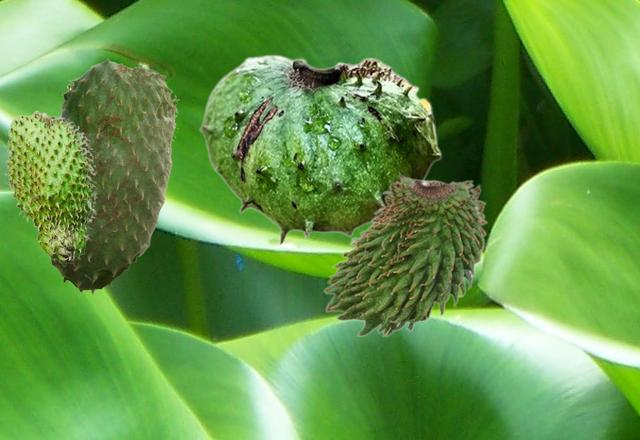guyabano: (199, 54, 441, 245), (50, 58, 178, 293), (322, 171, 487, 336), (4, 110, 97, 266)
